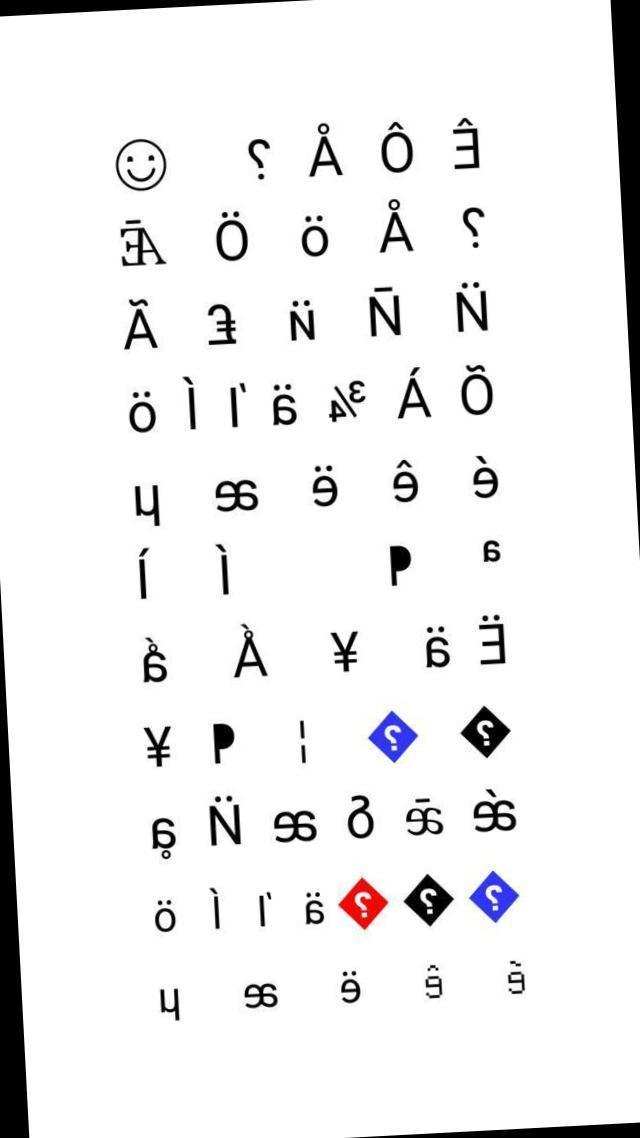ASCII: (111, 208, 172, 275), (467, 862, 526, 930), (198, 782, 252, 855), (111, 289, 167, 359), (112, 131, 170, 197), (446, 274, 504, 340), (438, 114, 494, 181), (294, 453, 345, 525), (454, 704, 514, 764), (462, 447, 516, 512), (365, 701, 418, 767), (378, 442, 428, 511), (338, 866, 390, 932), (363, 276, 412, 346), (456, 356, 506, 422), (126, 472, 174, 540), (402, 867, 454, 929), (375, 194, 426, 256), (227, 616, 274, 682), (303, 114, 347, 184), (316, 618, 366, 677), (374, 118, 422, 179), (133, 714, 183, 772), (325, 370, 370, 432), (208, 206, 252, 268), (290, 204, 338, 259), (394, 362, 434, 428), (132, 630, 176, 689), (282, 291, 326, 349), (125, 384, 167, 442), (418, 614, 459, 672), (200, 296, 243, 351), (263, 375, 304, 432), (378, 536, 422, 589), (146, 980, 194, 1028), (496, 950, 537, 1006), (203, 715, 240, 773), (412, 957, 452, 1010), (144, 808, 180, 864), (330, 958, 370, 1008), (296, 886, 333, 932), (150, 891, 182, 942)
